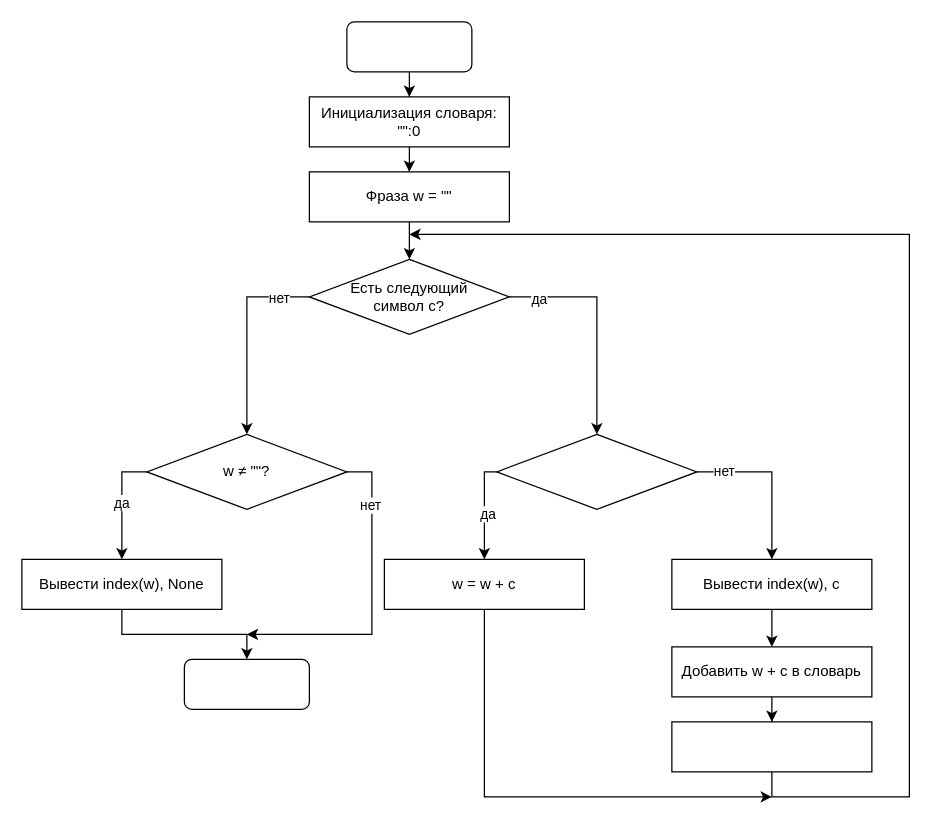
Some shapes in this 941 by 829 pixel diagram are drawn without their labels. The box of each missing label's shape, as (x1, y1, x2, y2) in pixels:
w + c есть в словаре?: (496, 433, 697, 509)
w = "": (671, 721, 872, 772)
Конец: (183, 658, 309, 709)
Начало: (346, 21, 472, 72)
